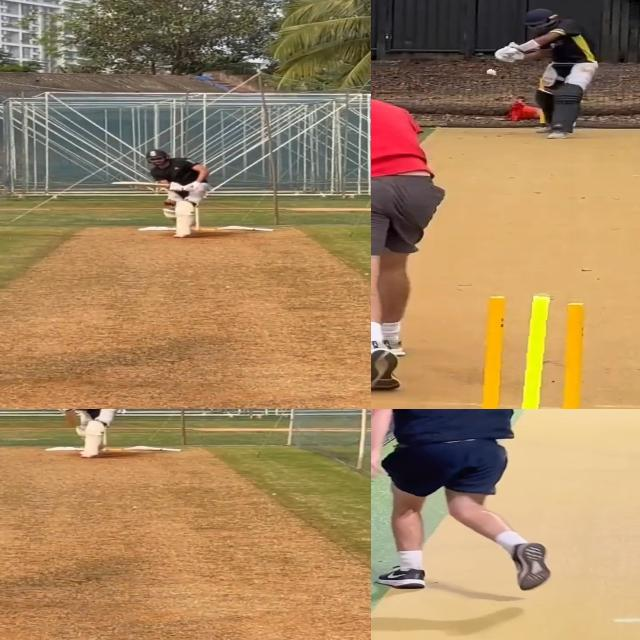Cricket ball: (164, 200, 178, 208), (485, 67, 499, 75)
Stumps: (470, 291, 602, 409)
